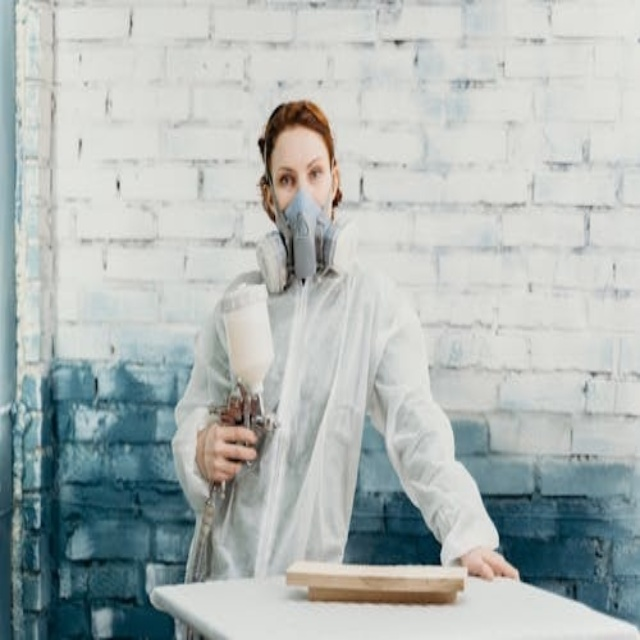Mascara: (255, 188, 357, 304)
Sin_gafas: (273, 152, 328, 186)
Sin_guantes: (198, 418, 258, 489), (462, 547, 519, 582)
